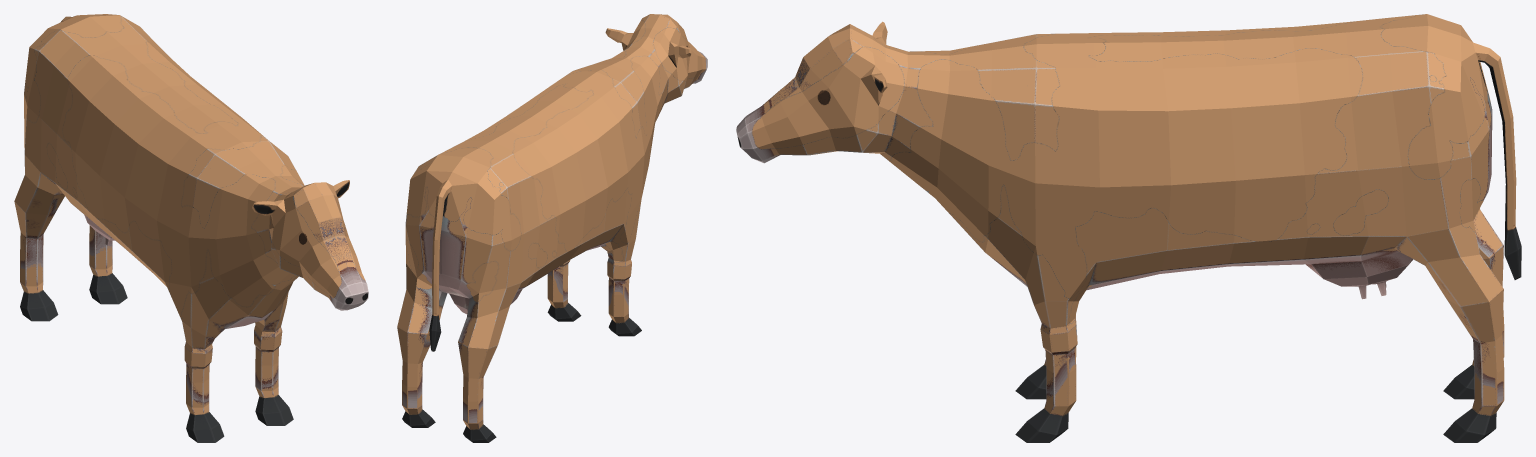
File: Cow_Pirenaica.obj
3 views of the same model, side by side, from view 1: azimuth 30°, elevation 25°; view 2: azimuth 150°, elevation 25°; view 3: azimuth 270°, elevation 25° (orthographic). The views are drawn at different scales.
Visible parts, largest first — view 1: Cow_mesh; view 2: Cow_mesh; view 3: Cow_mesh.
Boxes of the visible parts, bbox=[...] form: Cow_mesh: bbox=[14, 14, 368, 442]; Cow_mesh: bbox=[397, 14, 707, 442]; Cow_mesh: bbox=[736, 14, 1521, 442].
Bounding box in the file's own units: 3.36 × 7.42 × 13.65.
Materials: 1 (1 with a texture image).
